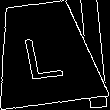L_N: (21, 26, 69, 81)
